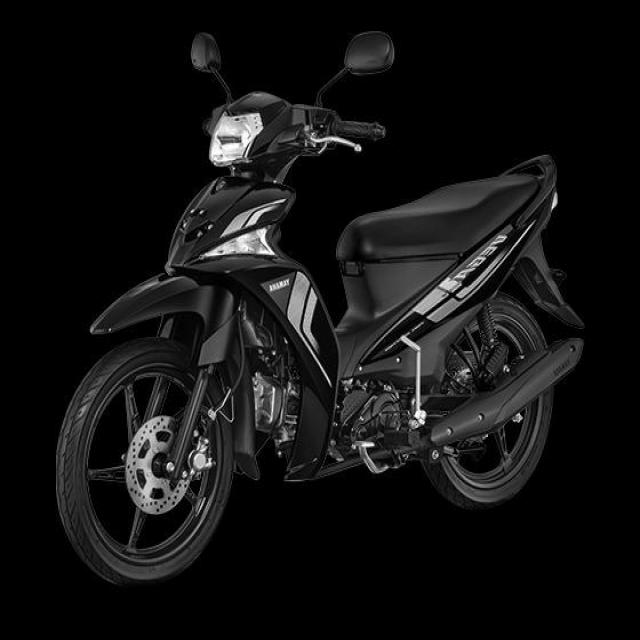Motorcycle: (56, 31, 585, 588)
